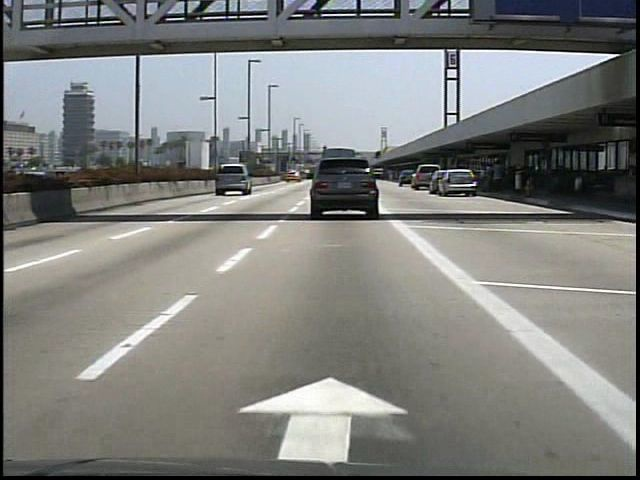person: (489, 156, 508, 195), (478, 161, 493, 195)
